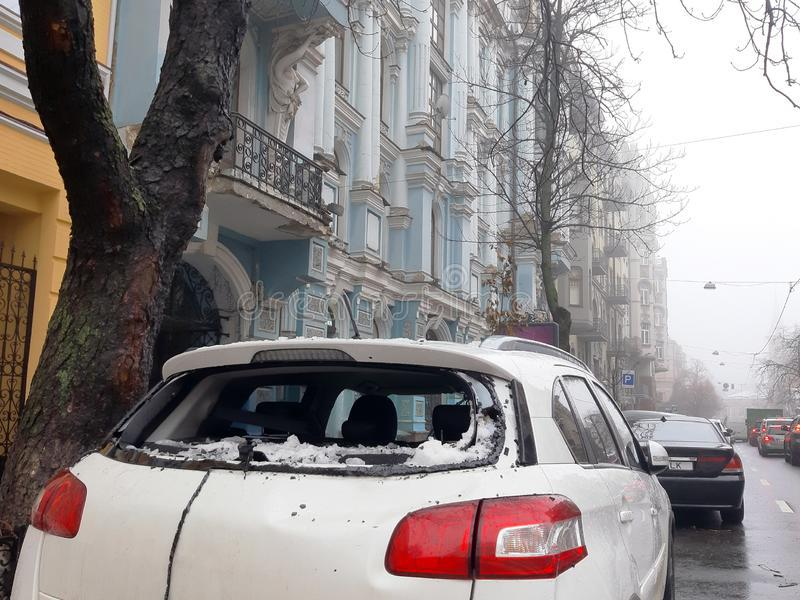Rear-windscreen-Damage: (95, 367, 543, 510)
